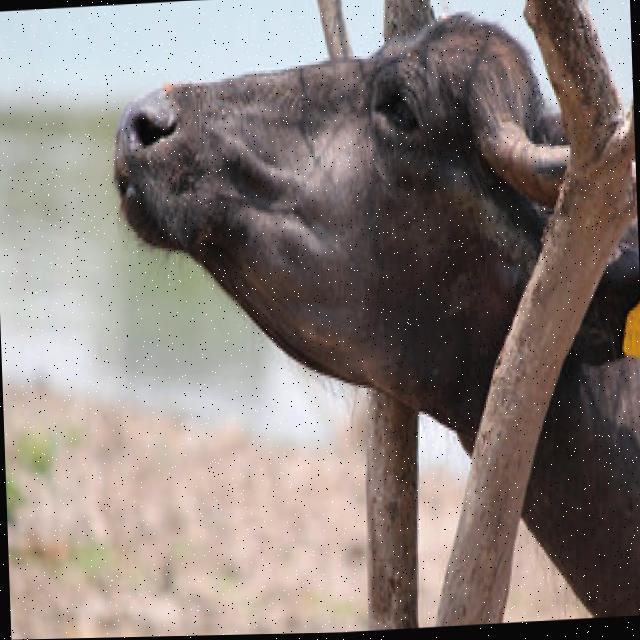Buffalo: (103, 0, 640, 638)
